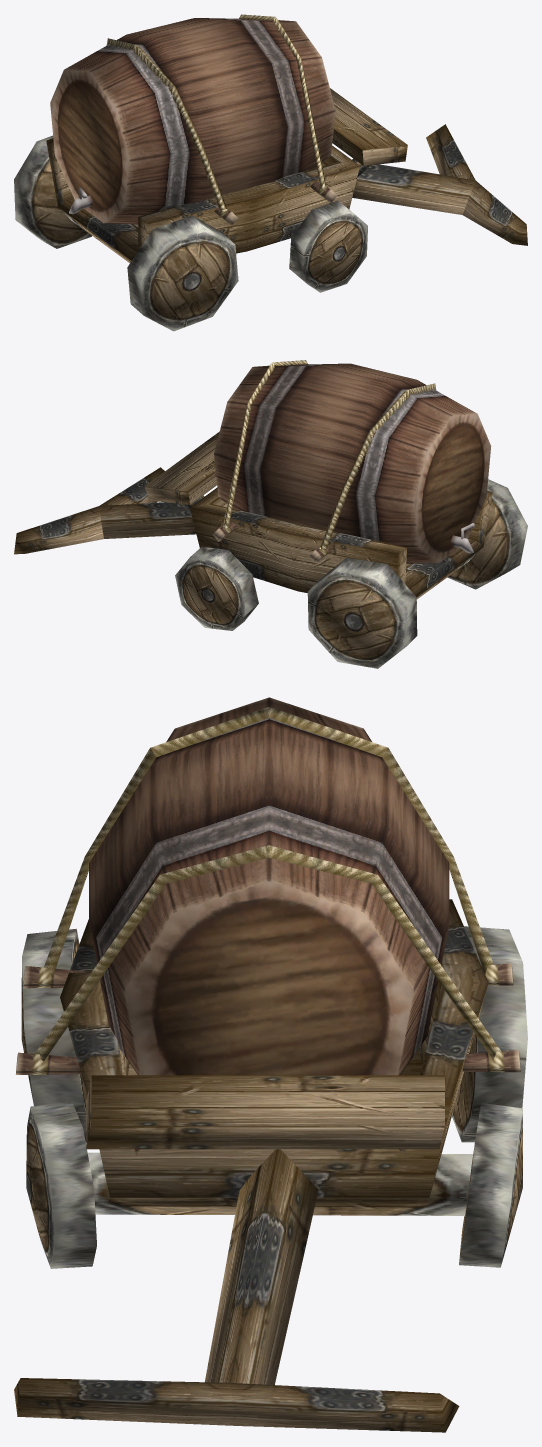
Rendered from excavationwaterwagon.obj.
The picture shows the model from 3 angles, top to bottom: view 1: azimuth 30°, elevation 25°; view 2: azimuth 150°, elevation 25°; view 3: azimuth 270°, elevation 25°; orthographic projection. The views are drawn at different scales.
Visible parts, largest first — view 1: Geoset2, Geoset0, Geoset1, Geoset4, Geoset3; view 2: Geoset2, Geoset0, Geoset1, Geoset4, Geoset3; view 3: Geoset2, Geoset0, Geoset1, Geoset4, Geoset3.
Boxes of the visible parts, x1,y1,x2,y2 form: Geoset2: [50, 18, 335, 224]; Geoset0: [46, 88, 527, 260]; Geoset1: [14, 135, 367, 331]; Geoset4: [106, 14, 326, 211]; Geoset3: [214, 181, 337, 225]; Geoset2: [214, 363, 491, 563]; Geoset0: [14, 431, 492, 596]; Geoset1: [175, 479, 527, 668]; Geoset4: [223, 360, 436, 550]; Geoset3: [212, 521, 330, 563]; Geoset2: [89, 697, 449, 1075]; Geoset0: [14, 899, 488, 1432]; Geoset1: [21, 926, 527, 1268]; Geoset4: [35, 706, 500, 1060]; Geoset3: [15, 963, 520, 1074].
Size of the model in its own units: 7.41 by 3.98 by 4.25.
Materials: 5 (5 with a texture image).
